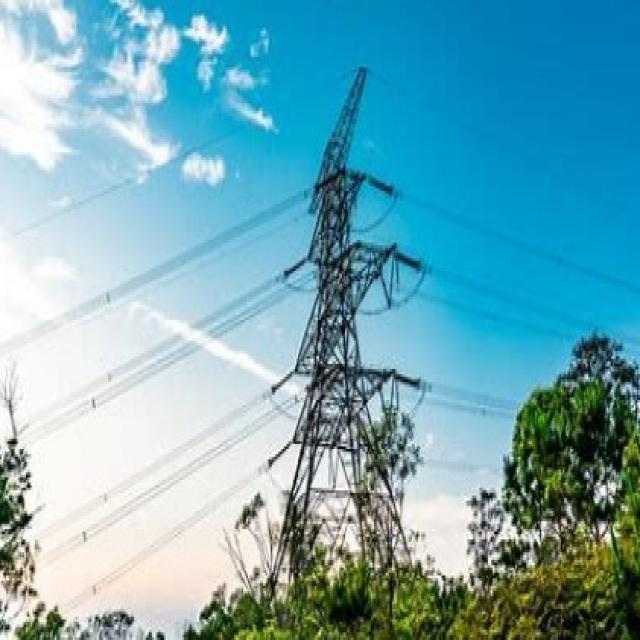utility poles: (278, 308, 434, 582), (479, 258, 626, 518)
